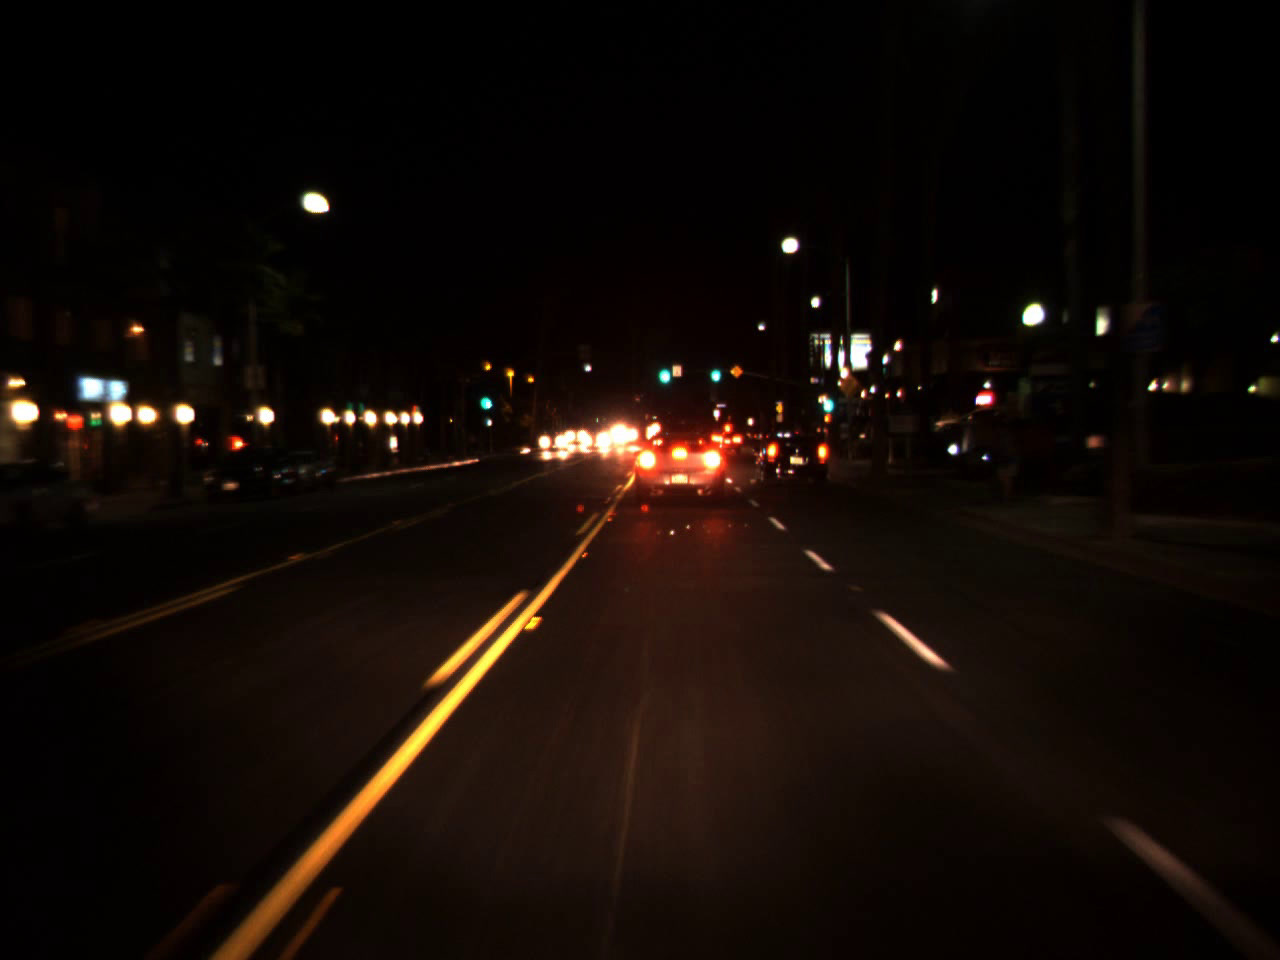go: (816, 383, 837, 416), (655, 352, 673, 388), (478, 381, 492, 414), (708, 357, 722, 384)
